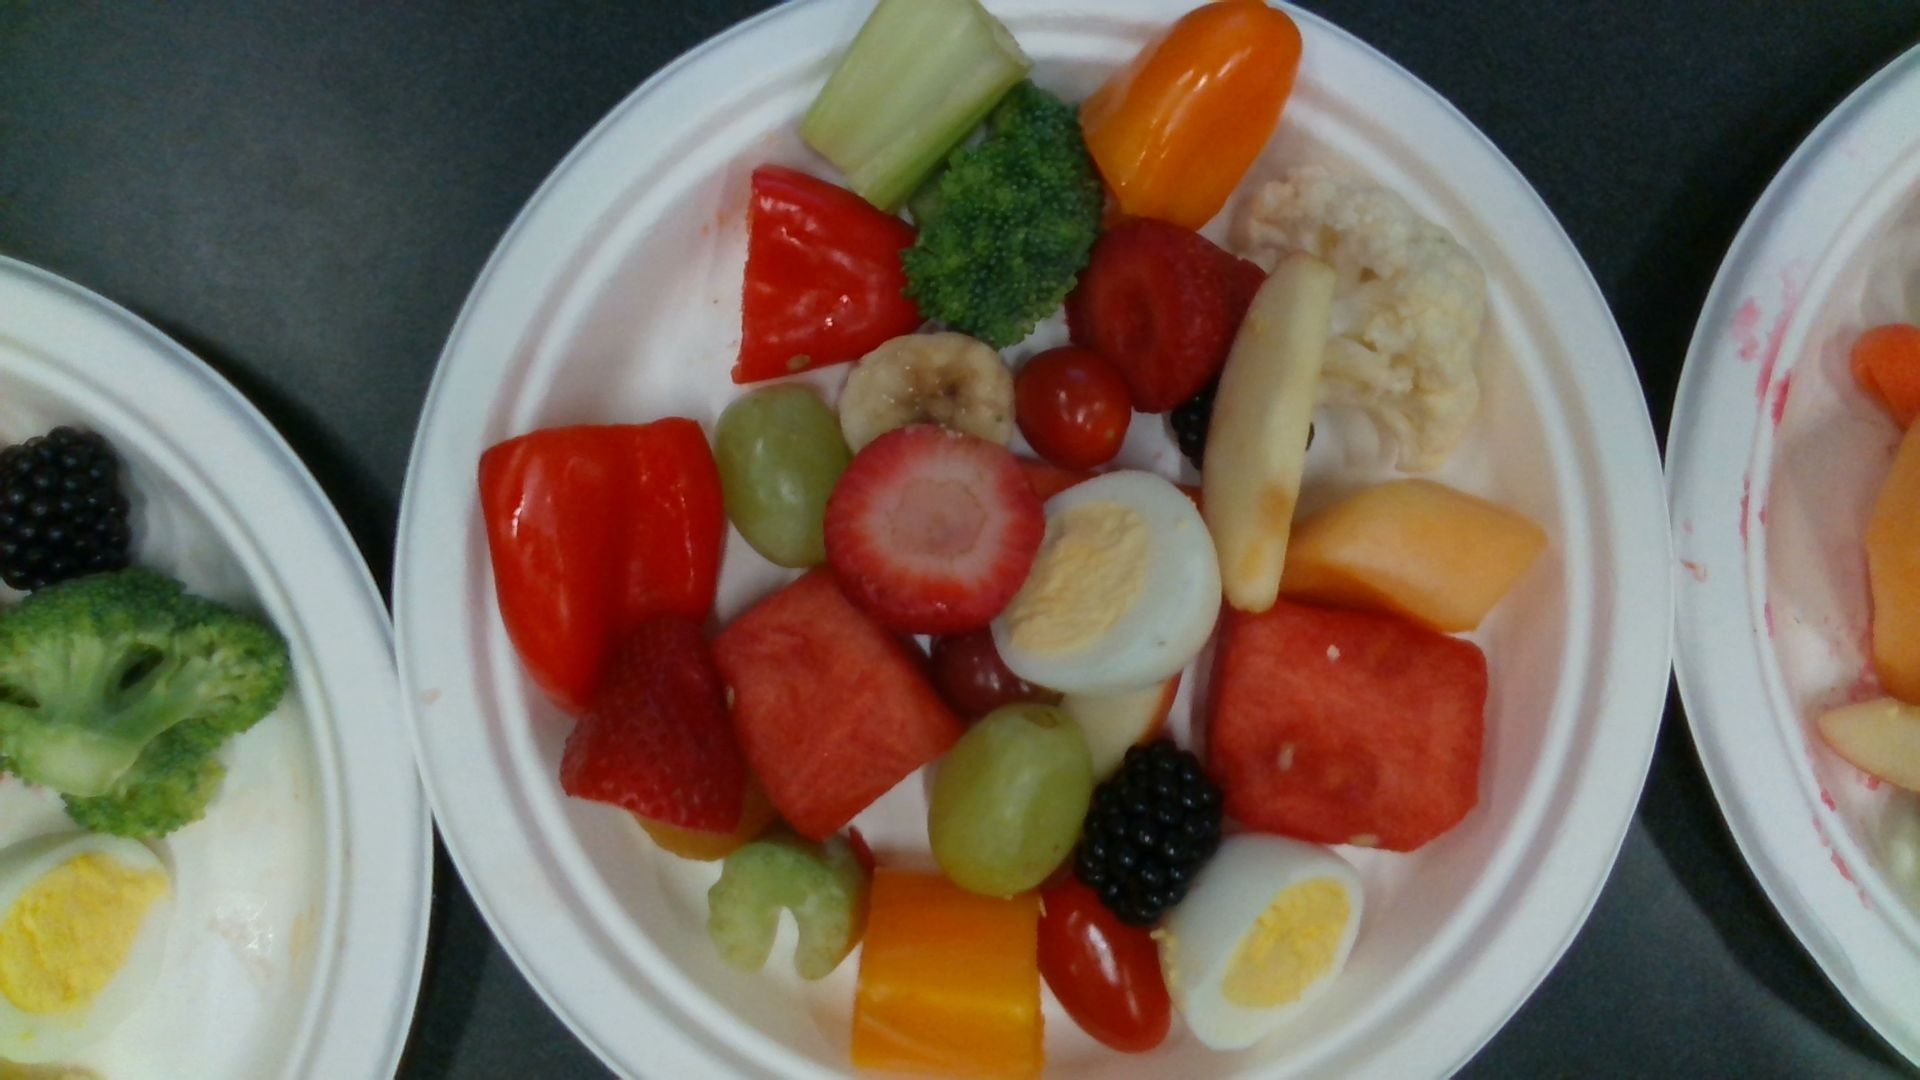apple: (1211, 258, 1332, 611)
banana: (840, 331, 1017, 458)
bell_pepper: (479, 419, 724, 711), (1080, 1, 1302, 228), (855, 872, 1043, 1080), (738, 166, 916, 378)
blackberry: (1083, 742, 1215, 916), (1, 429, 129, 589)
broccoli: (1, 571, 294, 828), (914, 80, 1102, 345)
cantalope: (1284, 481, 1540, 632)
cauliflower: (1234, 166, 1484, 473)
celery: (800, 1, 1029, 210), (709, 840, 866, 978)
cherry_tomato: (1036, 878, 1172, 1054), (1017, 348, 1129, 460)
egg: (992, 471, 1220, 690), (1175, 836, 1362, 1050), (1, 835, 174, 1063)
grape_green: (930, 708, 1091, 901), (715, 386, 849, 570)
melon: (1215, 607, 1487, 845), (715, 574, 959, 829)
strawberry: (829, 426, 1044, 621), (560, 618, 740, 833), (1073, 222, 1262, 400)
